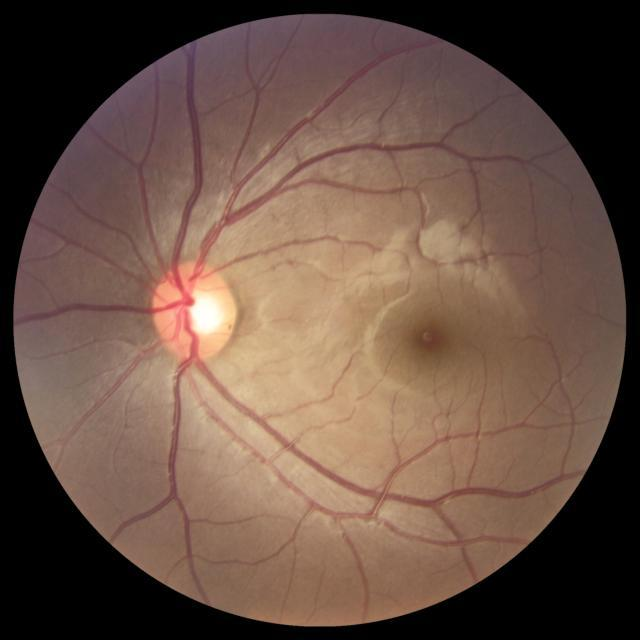OC: (176, 287, 222, 335)
OD: (152, 260, 238, 362)
